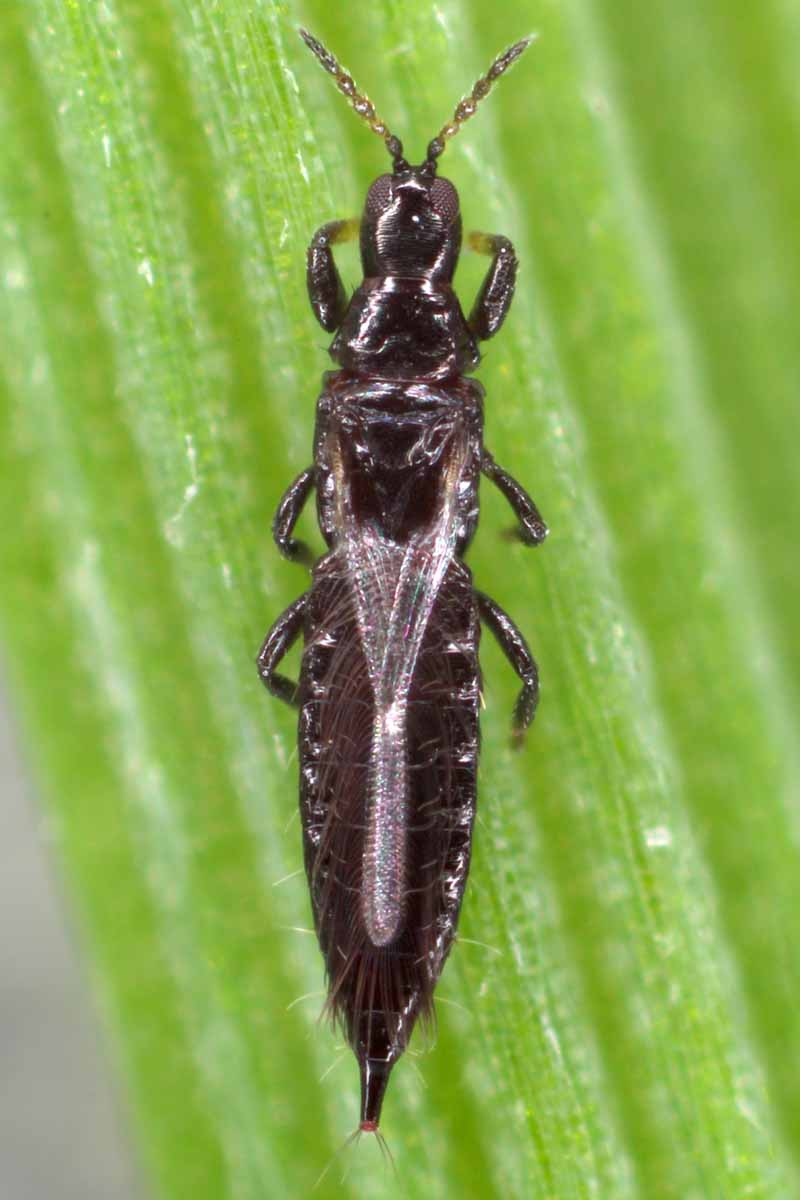Thrips: (178, 47, 594, 1130)
